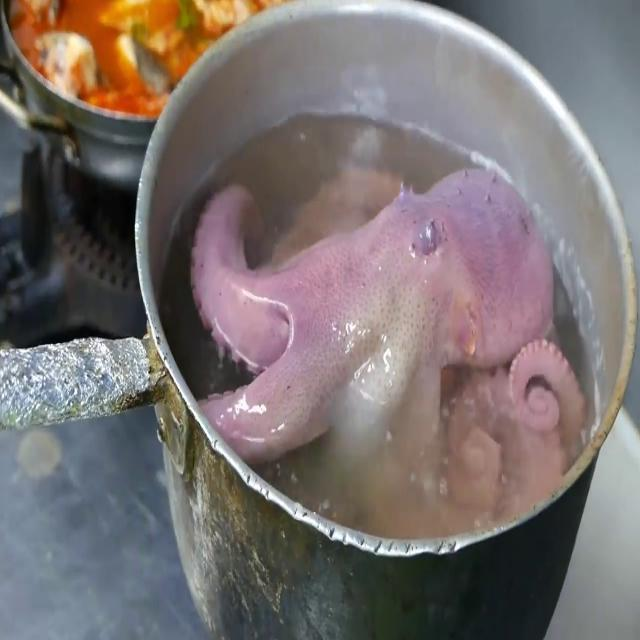octopus: (186, 140, 588, 474)
